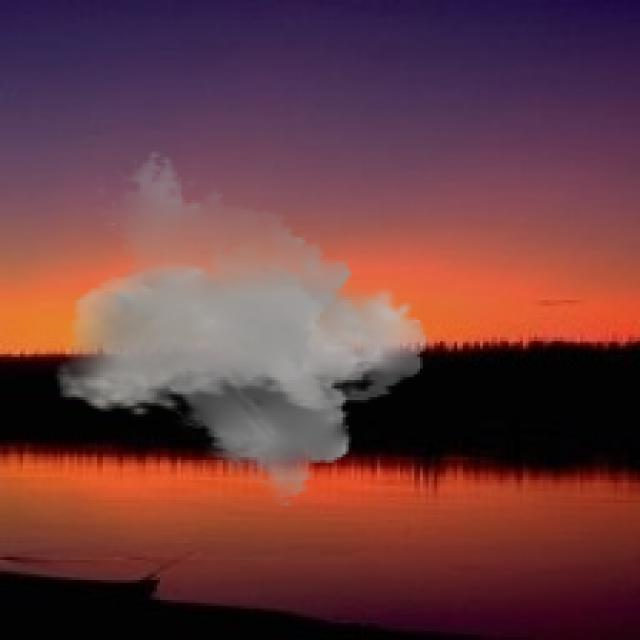Smoke: (54, 148, 429, 508)
